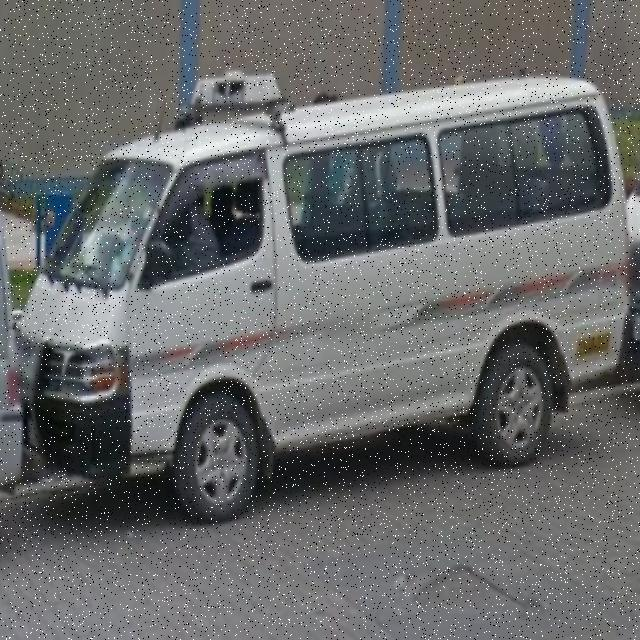cars: (30, 74, 623, 516)
